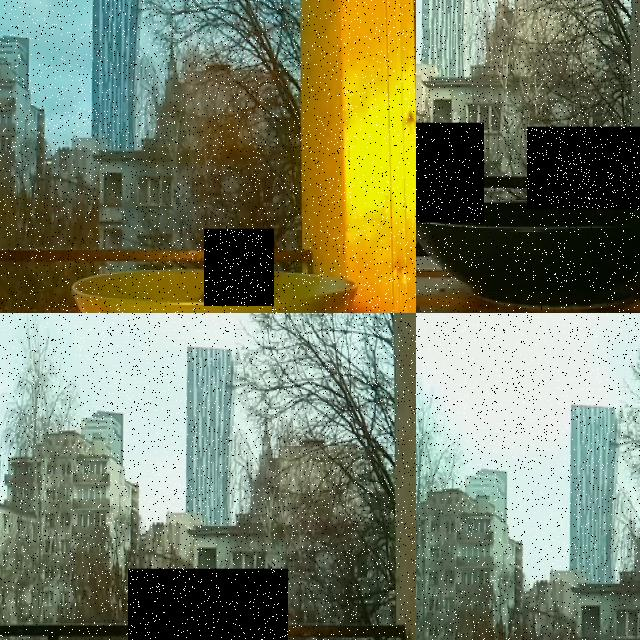Bogatka: (128, 568, 288, 640)
Modraszka: (204, 229, 274, 306)
Wrobel: (527, 126, 640, 209), (416, 122, 484, 222)
